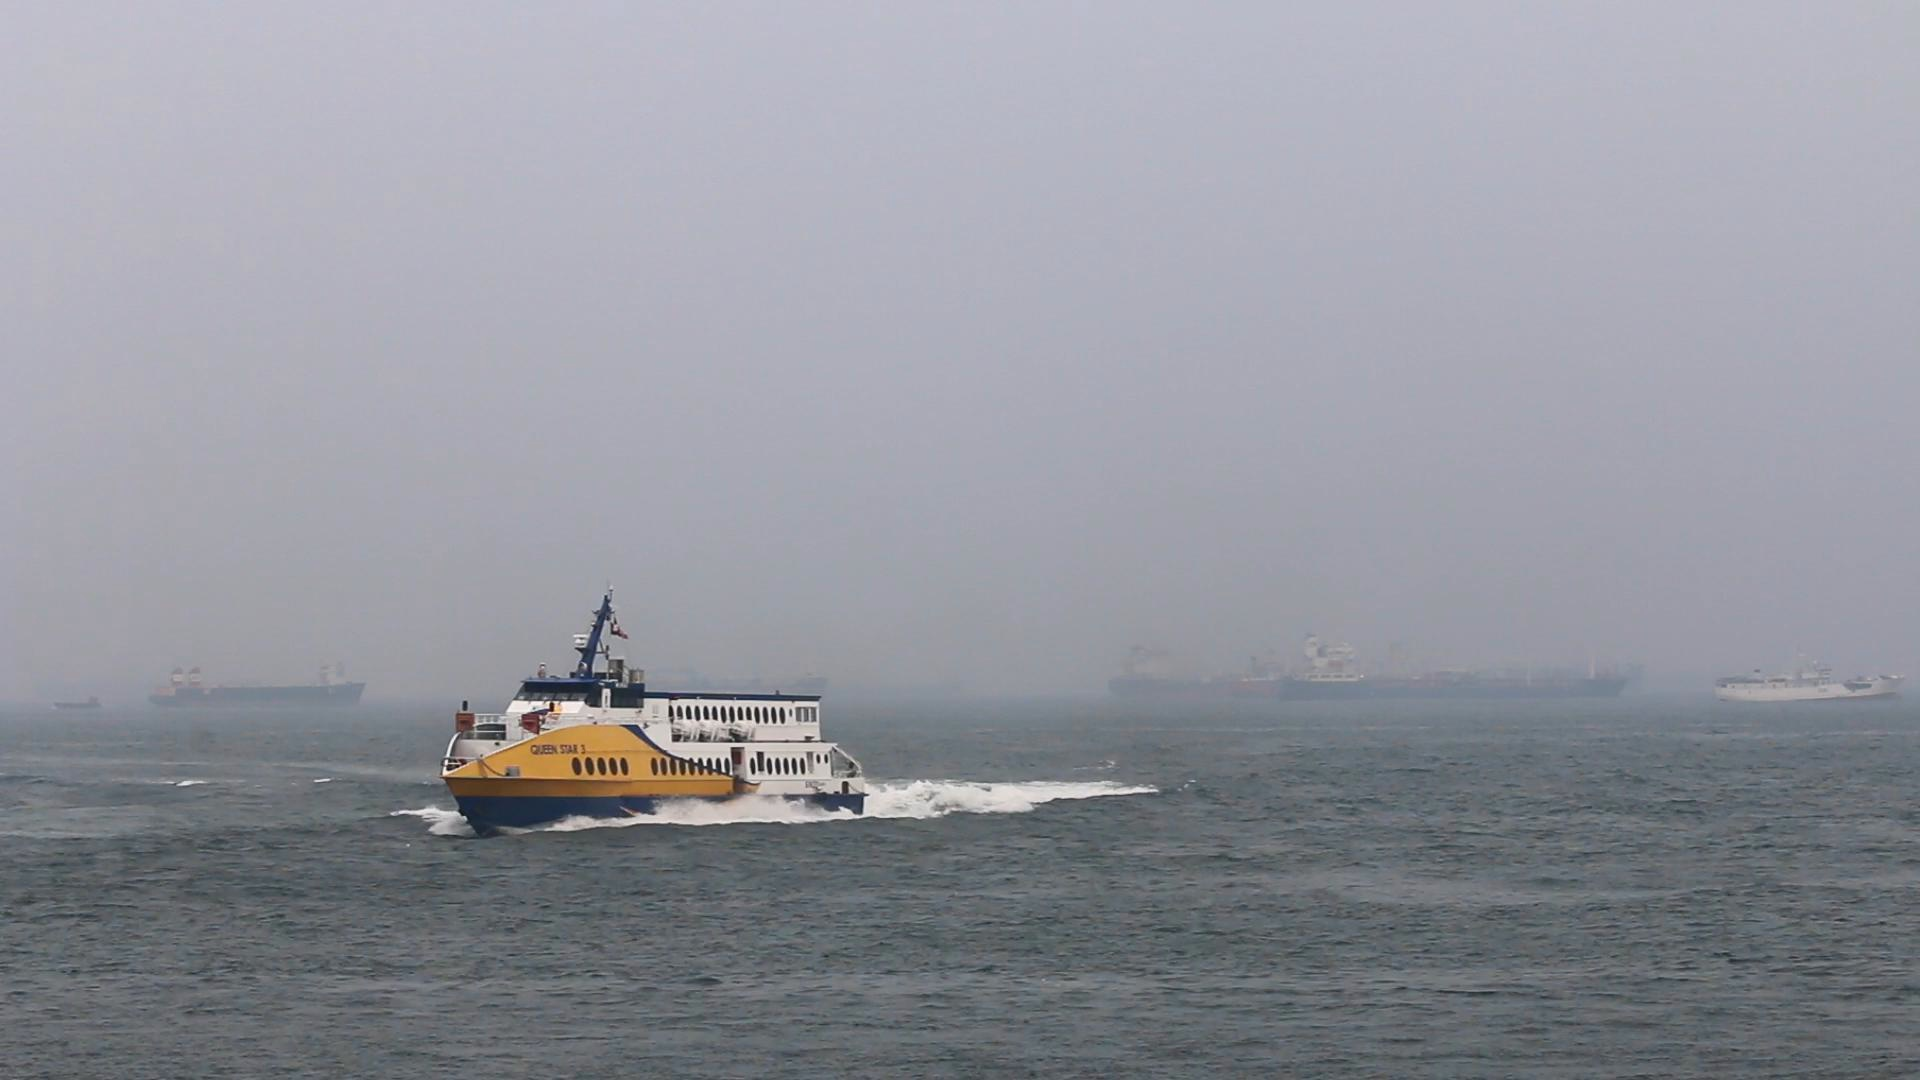Container Ship: (1295, 640, 1638, 704), (146, 670, 372, 712), (1710, 659, 1909, 707), (1105, 650, 1240, 704), (649, 663, 839, 692), (1245, 662, 1290, 703), (53, 690, 104, 712)
